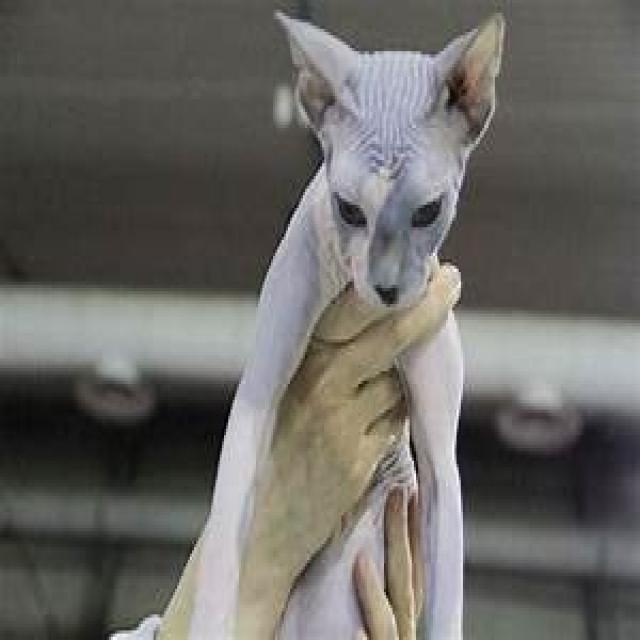cat: (100, 3, 506, 640)
